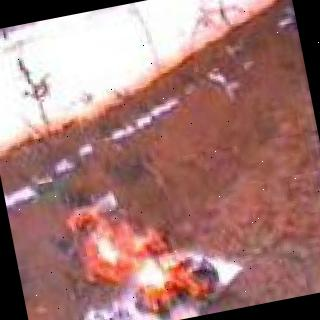fire: (61, 177, 242, 320)
